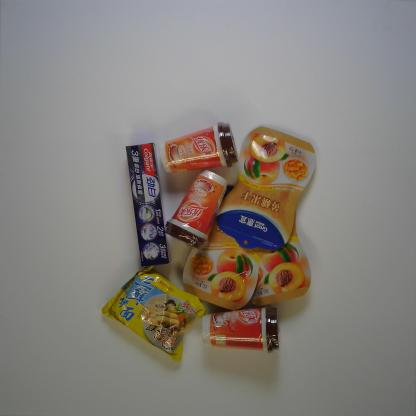Dried Fruit: (216, 125, 317, 251), (182, 184, 265, 312), (250, 210, 312, 308)
Instant Drink: (165, 169, 229, 250), (159, 122, 239, 174), (201, 305, 281, 354)
Instant Noodles: (101, 264, 208, 363)
Personal Hygiene: (125, 142, 172, 268)
